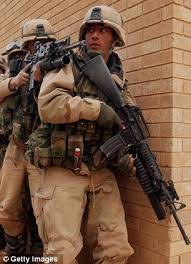Rifle: (80, 56, 191, 246), (24, 36, 89, 89)
